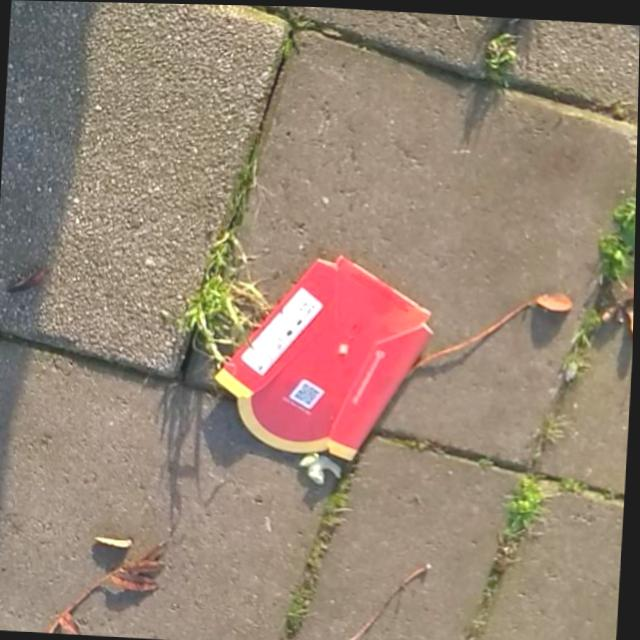Paper: (209, 244, 440, 470)
